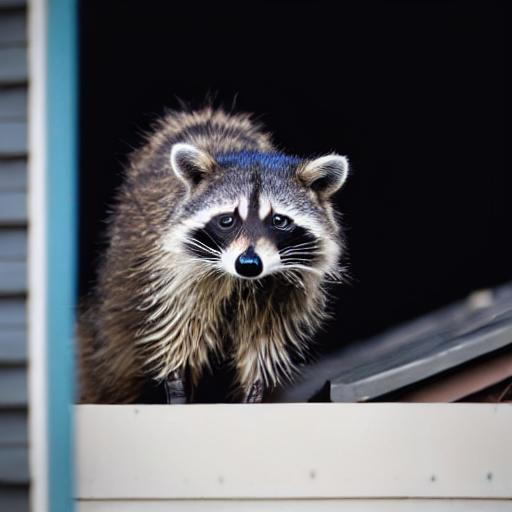raccoon: (69, 96, 362, 411)
